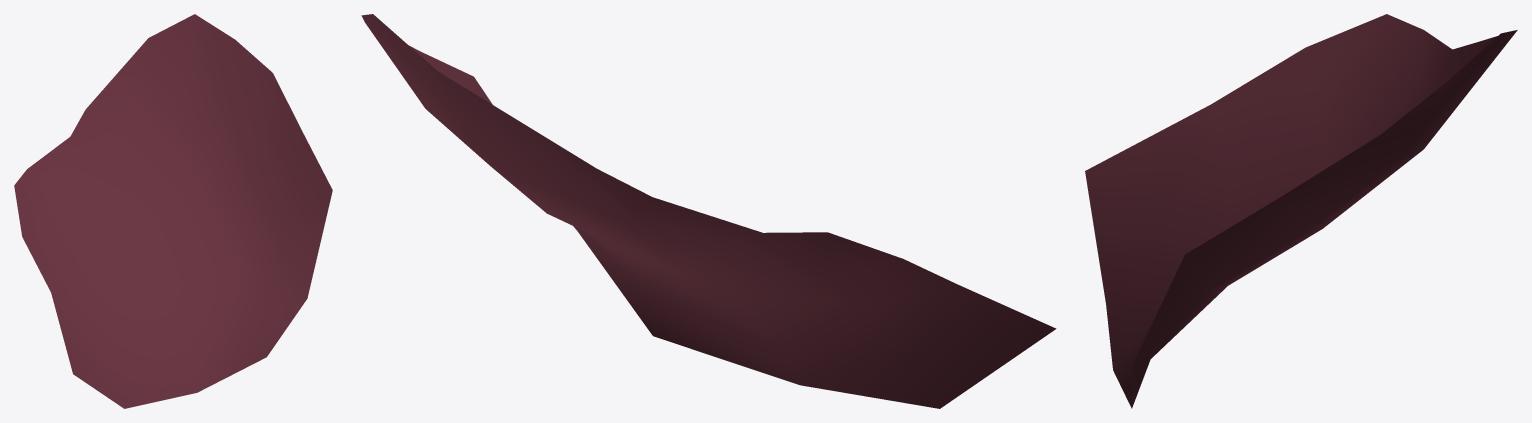
File: branch.fbx
The picture shows the model from 3 angles, left to right: view 1: azimuth 30°, elevation 25°; view 2: azimuth 150°, elevation 25°; view 3: azimuth 270°, elevation 25°; orthographic projection. The views are drawn at different scales.
Visible parts, largest first — view 1: Plane_001; view 2: Plane_001; view 3: Plane_001.
Boxes of the visible parts, left/top/right/bottom form: Plane_001: left=14, top=14, right=332, bottom=408; Plane_001: left=361, top=14, right=1056, bottom=408; Plane_001: left=1085, top=14, right=1517, bottom=408.
Size of the model in its own units: 1.76 by 1.53 by 1.4.
